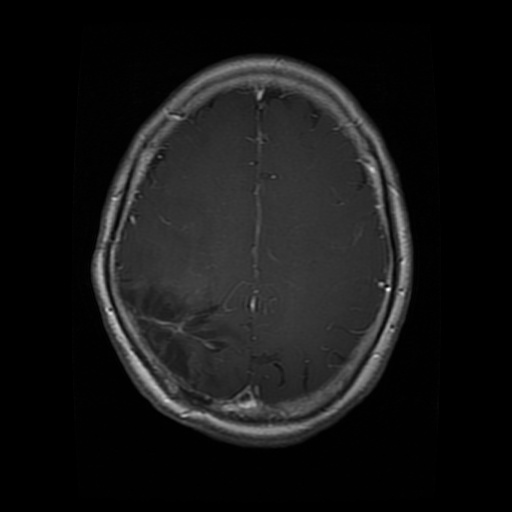glioma: (121, 279, 231, 385)
